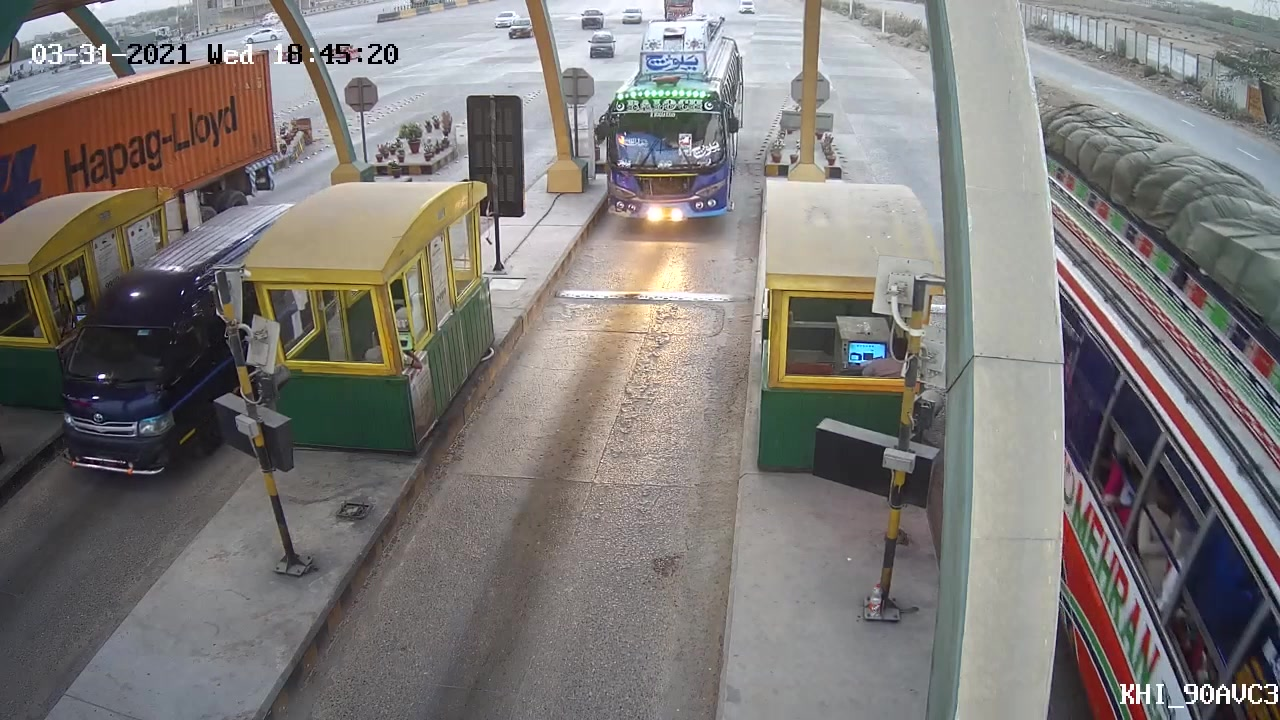F3: (585, 40, 751, 243)
